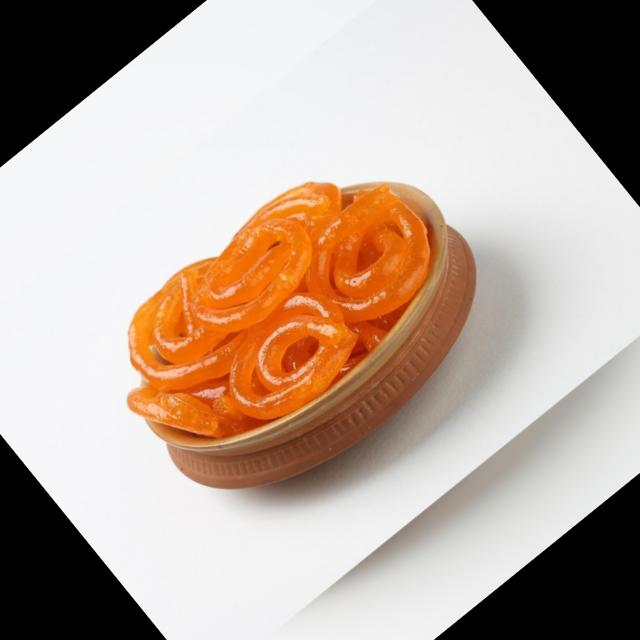jalebi: (92, 120, 474, 482)
